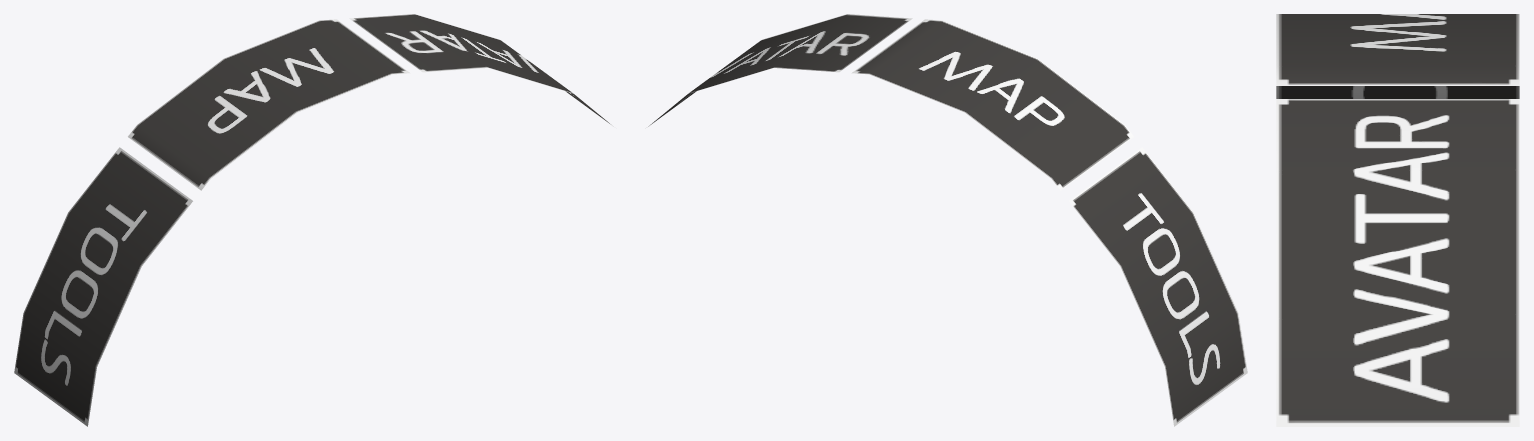
The model's file is Hand_UI_Menu_02.fbx.
The picture shows the model from 3 angles, left to right: view 1: azimuth 30°, elevation 25°; view 2: azimuth 150°, elevation 25°; view 3: azimuth 270°, elevation 25°; orthographic projection. The views are drawn at different scales.
Visible parts, largest first — view 1: Tools_Button, Map_Button, Avatar_Button; view 2: Tools_Button, Map_Button, Avatar_Button; view 3: Avatar_Button, Map_Button, Tools_Button.
Boxes of the visible parts, <box> form: Tools_Button: <box>14,147,192,426</box>; Map_Button: <box>128,19,410,190</box>; Avatar_Button: <box>349,14,613,126</box>; Tools_Button: <box>1069,147,1247,426</box>; Map_Button: <box>851,19,1133,190</box>; Avatar_Button: <box>648,14,912,126</box>; Avatar_Button: <box>1276,99,1519,426</box>; Map_Button: <box>1276,14,1519,85</box>; Tools_Button: <box>1276,86,1519,98</box>.
Bounding box in the file's own units: 6.51 × 3.27 × 1.57.
